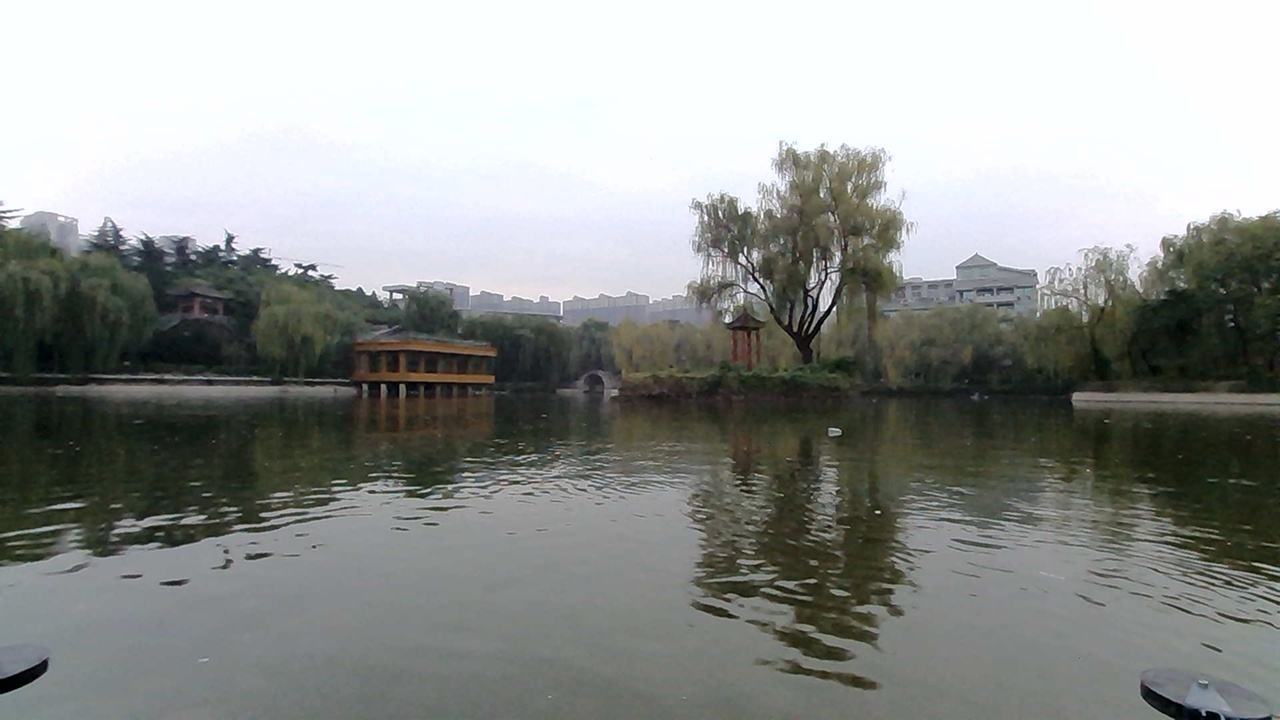bottle: (819, 413, 874, 445)
